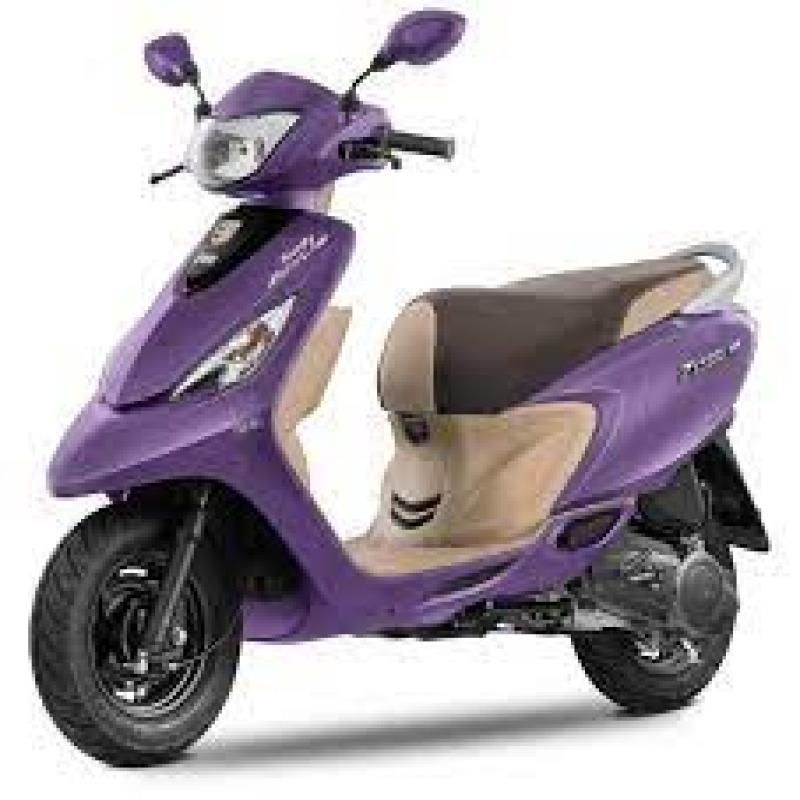bike: (20, 0, 792, 780)
